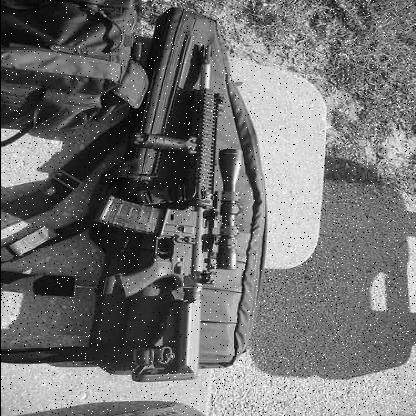rifle: (97, 28, 247, 389)
